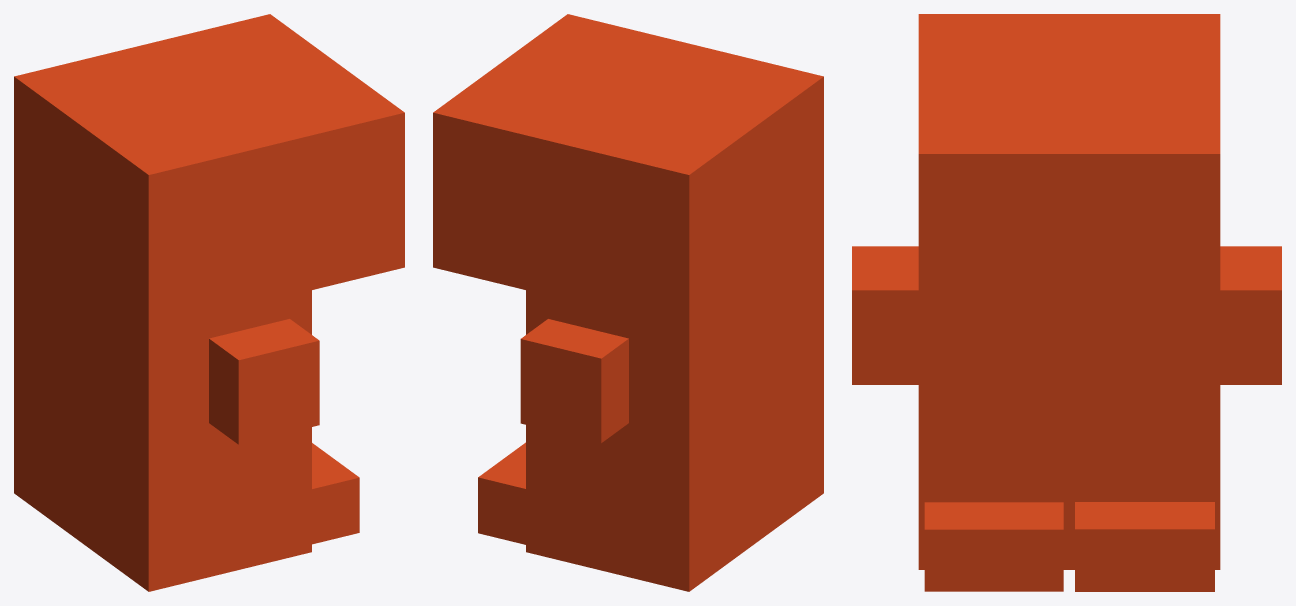
File: Nugget.fbx
The picture shows the model from 3 angles, left to right: view 1: azimuth 30°, elevation 25°; view 2: azimuth 150°, elevation 25°; view 3: azimuth 270°, elevation 25°; orthographic projection. The views are drawn at different scales.
Visible parts, largest first — view 1: Cube; view 2: Cube; view 3: Cube.
Boxes of the visible parts, <box> form: Cube: <box>14,14,404,591</box>; Cube: <box>433,14,823,591</box>; Cube: <box>852,14,1281,591</box>.
Size of the model in its own units: 205 by 318 by 266.
